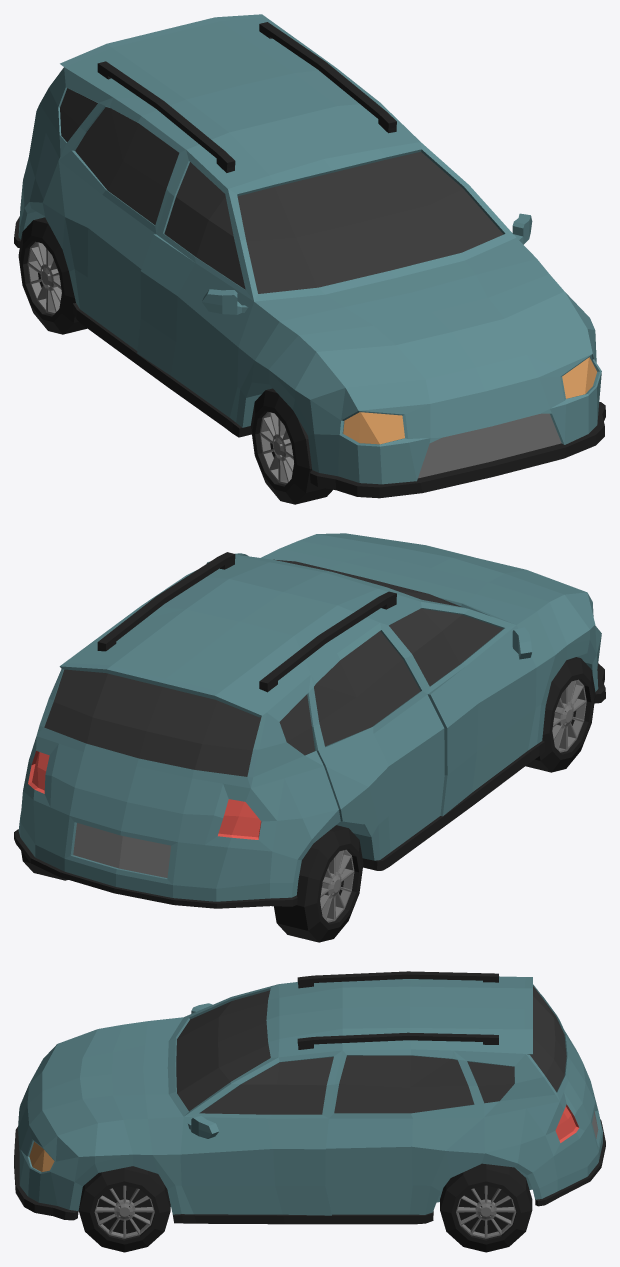
The model's file is SUV_Car.fbx.
The picture shows the model from 3 angles, top to bottom: view 1: azimuth 30°, elevation 25°; view 2: azimuth 150°, elevation 25°; view 3: azimuth 270°, elevation 25°; orthographic projection. The views are drawn at different scales.
Parts seen in each view (by area): view 1: SUV, SUV_FrontRightWheel, SUV_BackRightWheel; view 2: SUV, SUV_BackRightWheel, SUV_FrontRightWheel; view 3: SUV, SUV_BackLeftWheel, SUV_FrontLeftWheel.
Part boxes in pixels (box(x1,y1,x2,y2)): SUV: box(14, 14, 605, 498); SUV_FrontRightWheel: box(250, 388, 332, 504); SUV_BackRightWheel: box(18, 217, 87, 334); SUV: box(14, 533, 605, 908); SUV_BackRightWheel: box(274, 825, 363, 942); SUV_FrontRightWheel: box(525, 657, 595, 772); SUV: box(14, 971, 605, 1224); SUV_BackLeftWheel: box(440, 1163, 532, 1252); SUV_FrontLeftWheel: box(78, 1166, 170, 1252).
Size of the model in its own units: 211 by 153 by 421.
